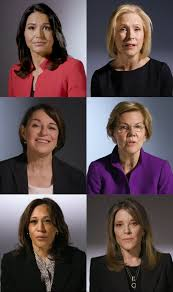middle_eastern_Female: (18, 196, 64, 248)
